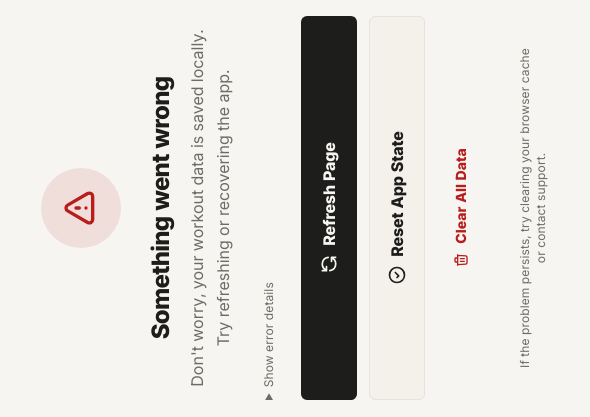
Test: ErrorBoundary › shows error details when expanded
// Find and click the details element
Click the heading "Show error details": click(268, 335) [261,282,276,387]
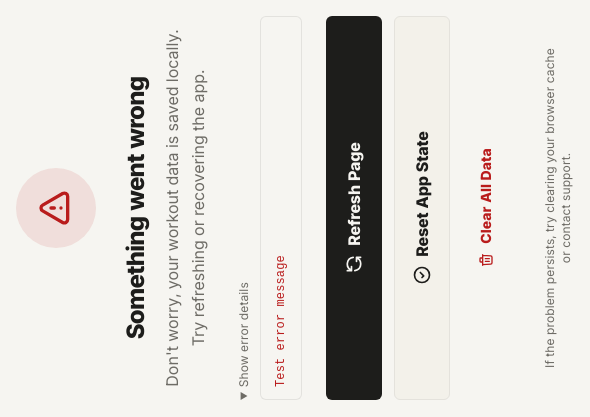
Now the text "Test error message" is shown, box [260,16,302,400]
